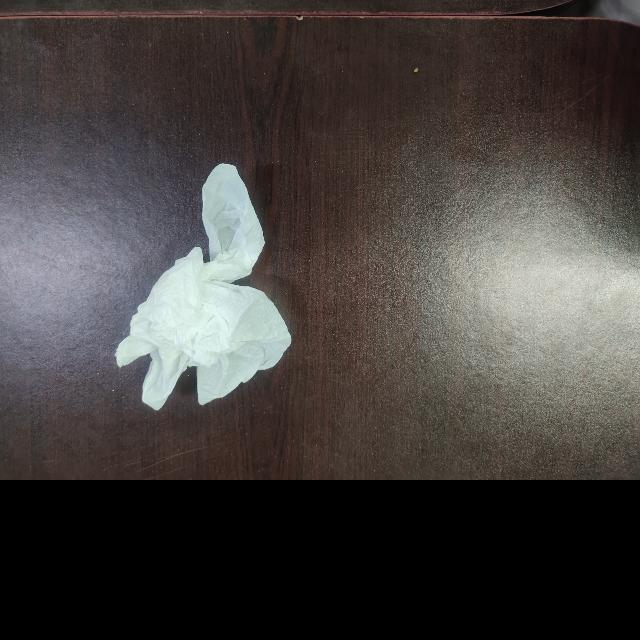kitchen paper: (112, 161, 298, 411)
